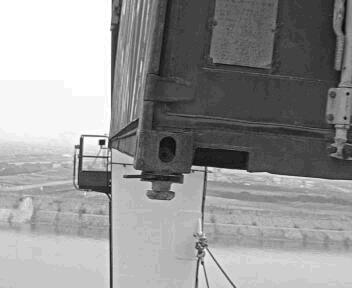twist_lock_1: (134, 169, 188, 208)
